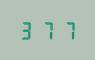seven: (38, 20, 56, 40), (57, 20, 75, 40)
three: (18, 20, 36, 40)
